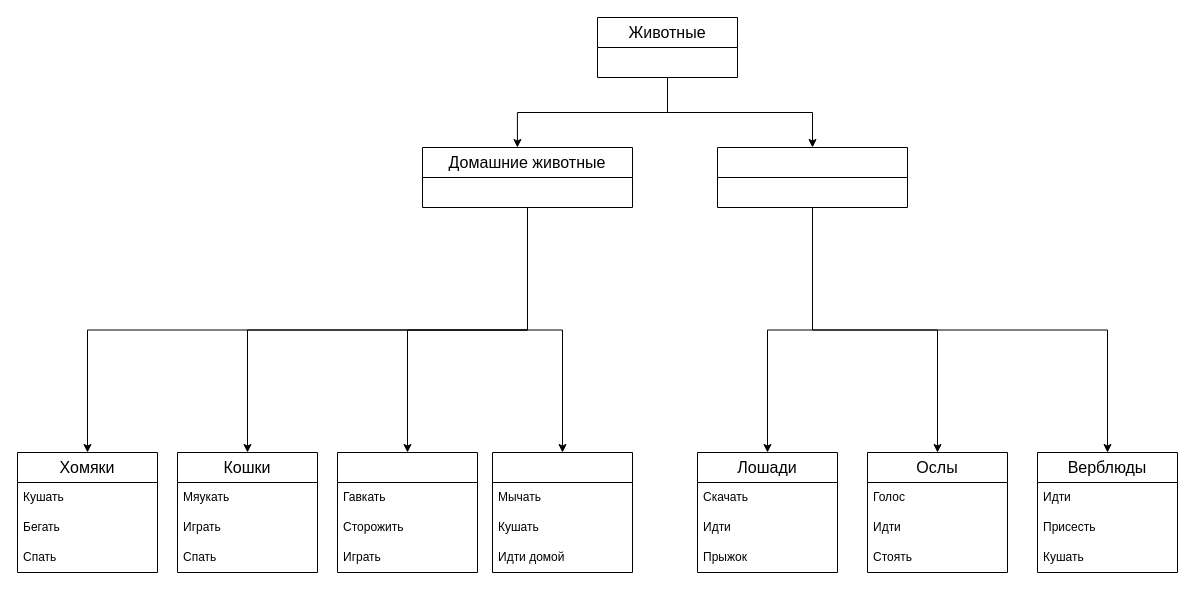
Some shapes in this 1195 by 590 pixel diagram are drawn without their labels. Here are the shapes that lost their labels. From the top down, the box of each, then its label:
(716, 146, 908, 208): Вьючные животные
(336, 452, 478, 572): Собаки
(492, 452, 632, 572): Коровы
